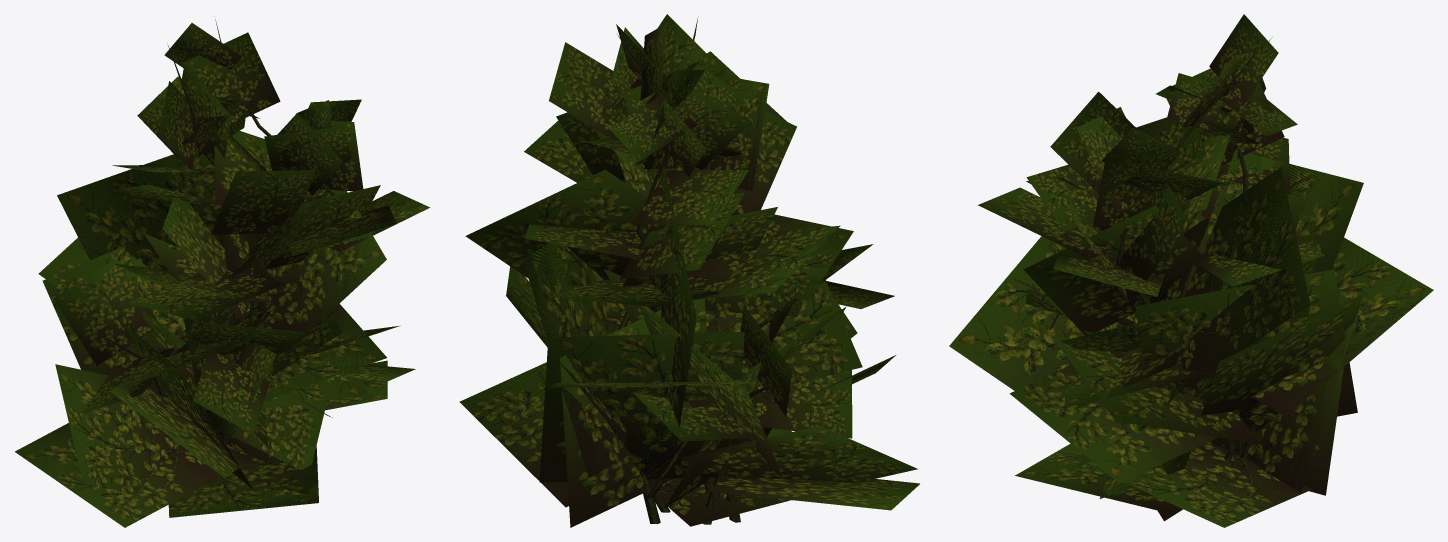
Rendered from DeadRose 2.2.fbx.
3 views of the same model, side by side, from view 1: azimuth 30°, elevation 25°; view 2: azimuth 150°, elevation 25°; view 3: azimuth 270°, elevation 25° (orthographic). The views are drawn at different scales.
Visible parts, largest first — view 1: DeadRose_2_2; view 2: DeadRose_2_2; view 3: DeadRose_2_2.
Boxes of the visible parts, bbox=[...] form: DeadRose_2_2: bbox=[15, 19, 429, 527]; DeadRose_2_2: bbox=[459, 14, 919, 527]; DeadRose_2_2: bbox=[949, 14, 1433, 527].
Bounding box in the file's own units: 307 × 348 × 315.
